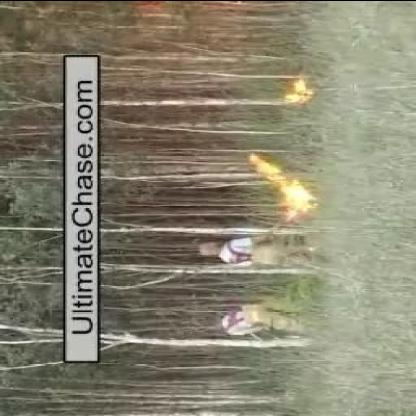foggia-v2-map80-epoch100 - v1 4323: (246, 152, 318, 218), (290, 80, 313, 102)
